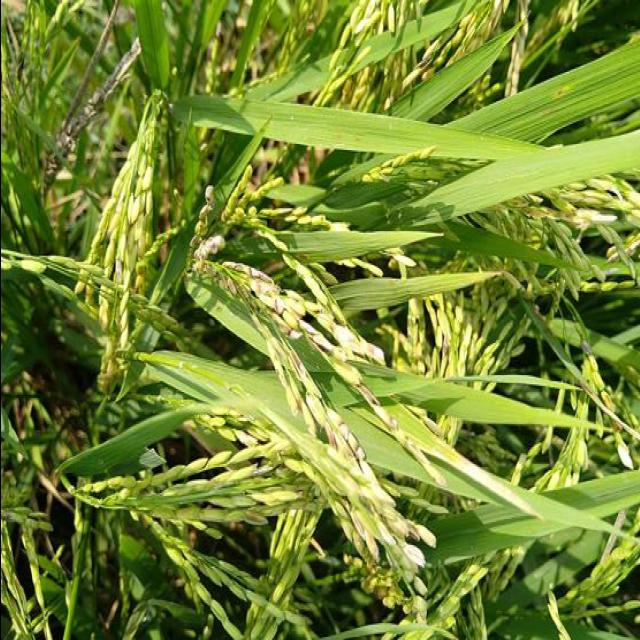Panicle Blight: (356, 384, 418, 455), (328, 415, 371, 488), (268, 308, 335, 354), (337, 511, 382, 570), (192, 236, 235, 294), (329, 325, 383, 363), (228, 262, 273, 285), (356, 383, 383, 421), (107, 256, 128, 289), (437, 331, 449, 378), (401, 522, 427, 542), (416, 55, 434, 83), (199, 184, 213, 217), (605, 412, 624, 435), (234, 429, 257, 446), (291, 351, 306, 375), (244, 510, 267, 525), (254, 467, 273, 479), (292, 397, 302, 413)
